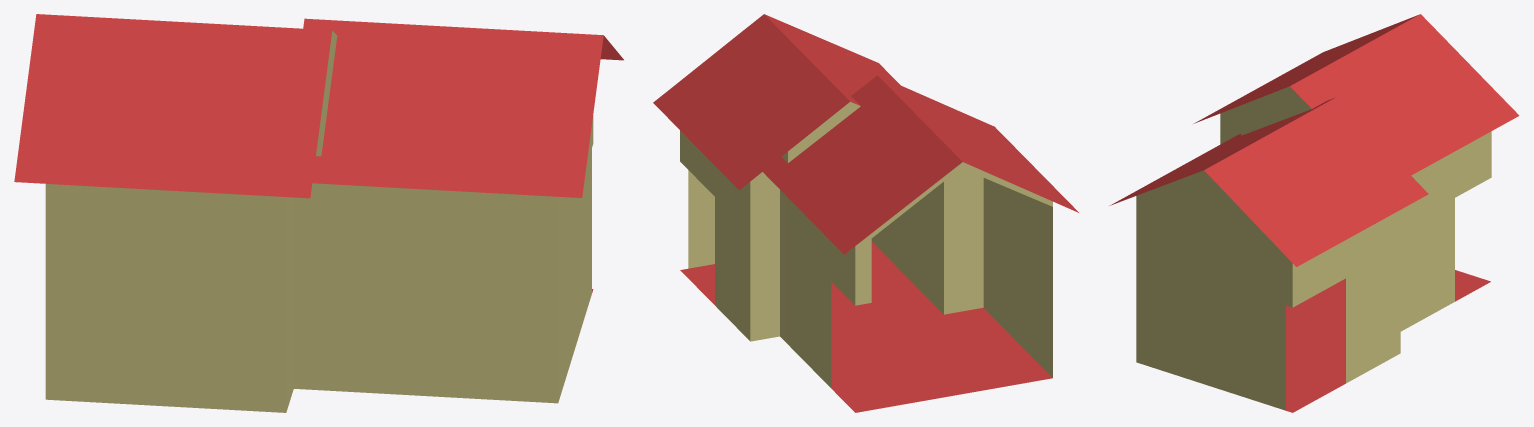
3 renders of one model, left to right at view 1: azimuth 30°, elevation 25°; view 2: azimuth 150°, elevation 25°; view 3: azimuth 270°, elevation 25°, orthographic. The views are drawn at different scales.
Size of the model in its own units: 24.56 by 20.49 by 12.87.
